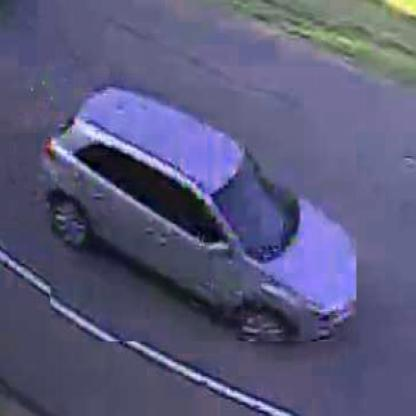car: (52, 92, 359, 344)
